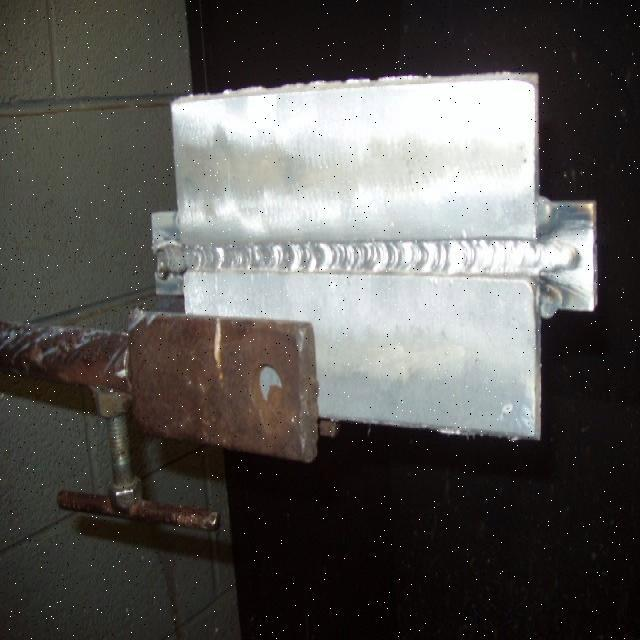Good Welding: (155, 197, 596, 318)
